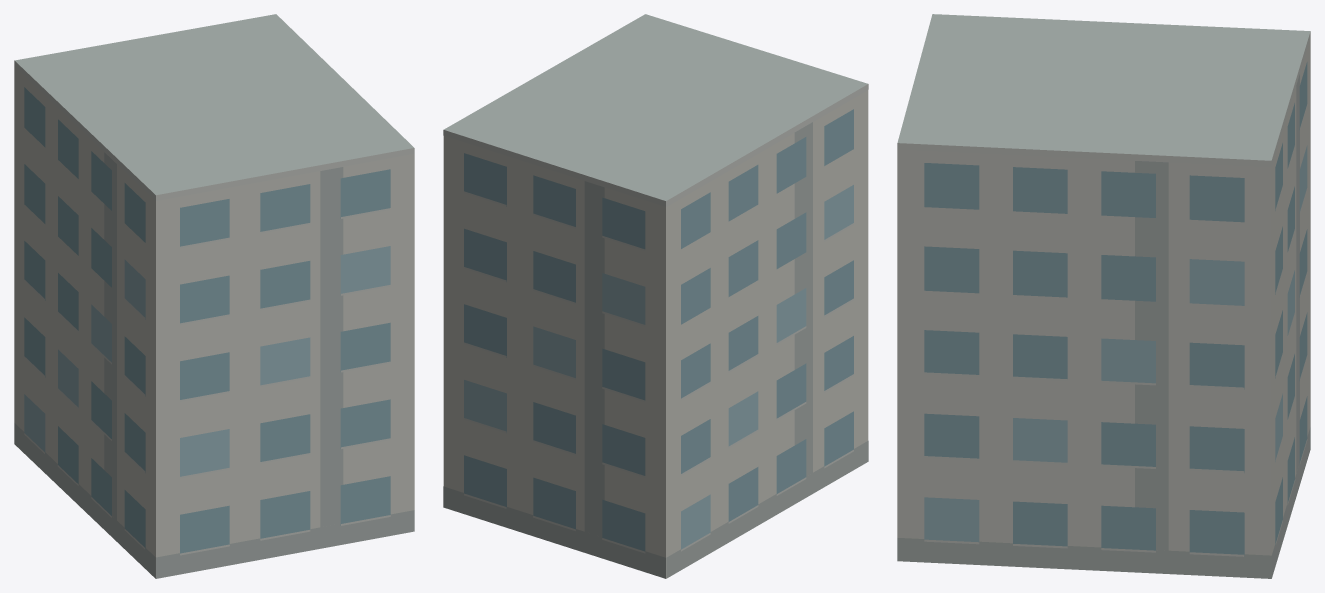
File: survey-upis-32638977.glb
The picture shows the model from 3 angles, left to right: view 1: azimuth 30°, elevation 25°; view 2: azimuth 150°, elevation 25°; view 3: azimuth 270°, elevation 25°; orthographic projection. The views are drawn at different scales.
Parts seen in each view (by area): view 1: survey-upis-32638977.tmp; view 2: survey-upis-32638977.tmp; view 3: survey-upis-32638977.tmp.
Part boxes in pixels (x1,y1,x2,y2): survey-upis-32638977.tmp: [14, 14, 414, 578]; survey-upis-32638977.tmp: [443, 14, 868, 578]; survey-upis-32638977.tmp: [897, 14, 1310, 578].
Size of the model in its own units: 11.77 by 15.62 by 14.
